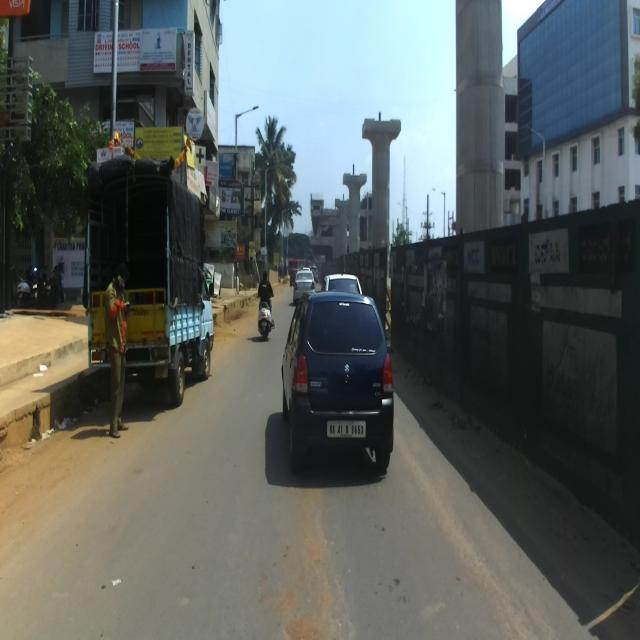Car_Maruti-Suzuki: (280, 288, 395, 476)
truck: (81, 154, 215, 408)
